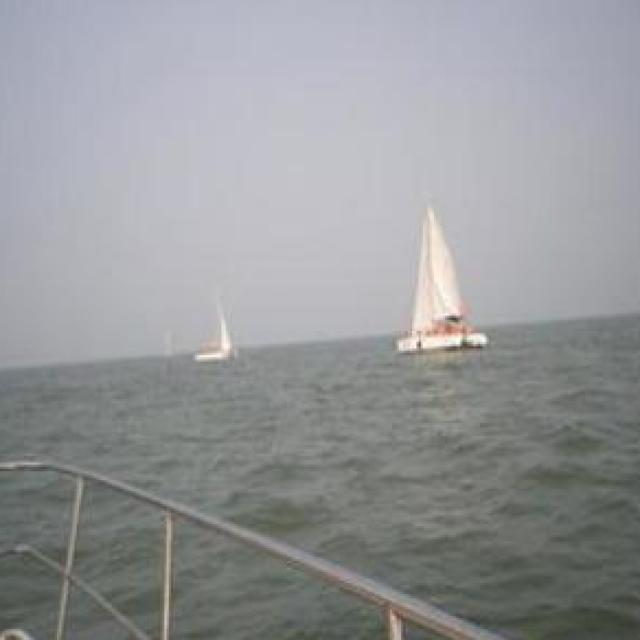sailboat: (392, 205, 494, 356), (194, 293, 250, 375)
